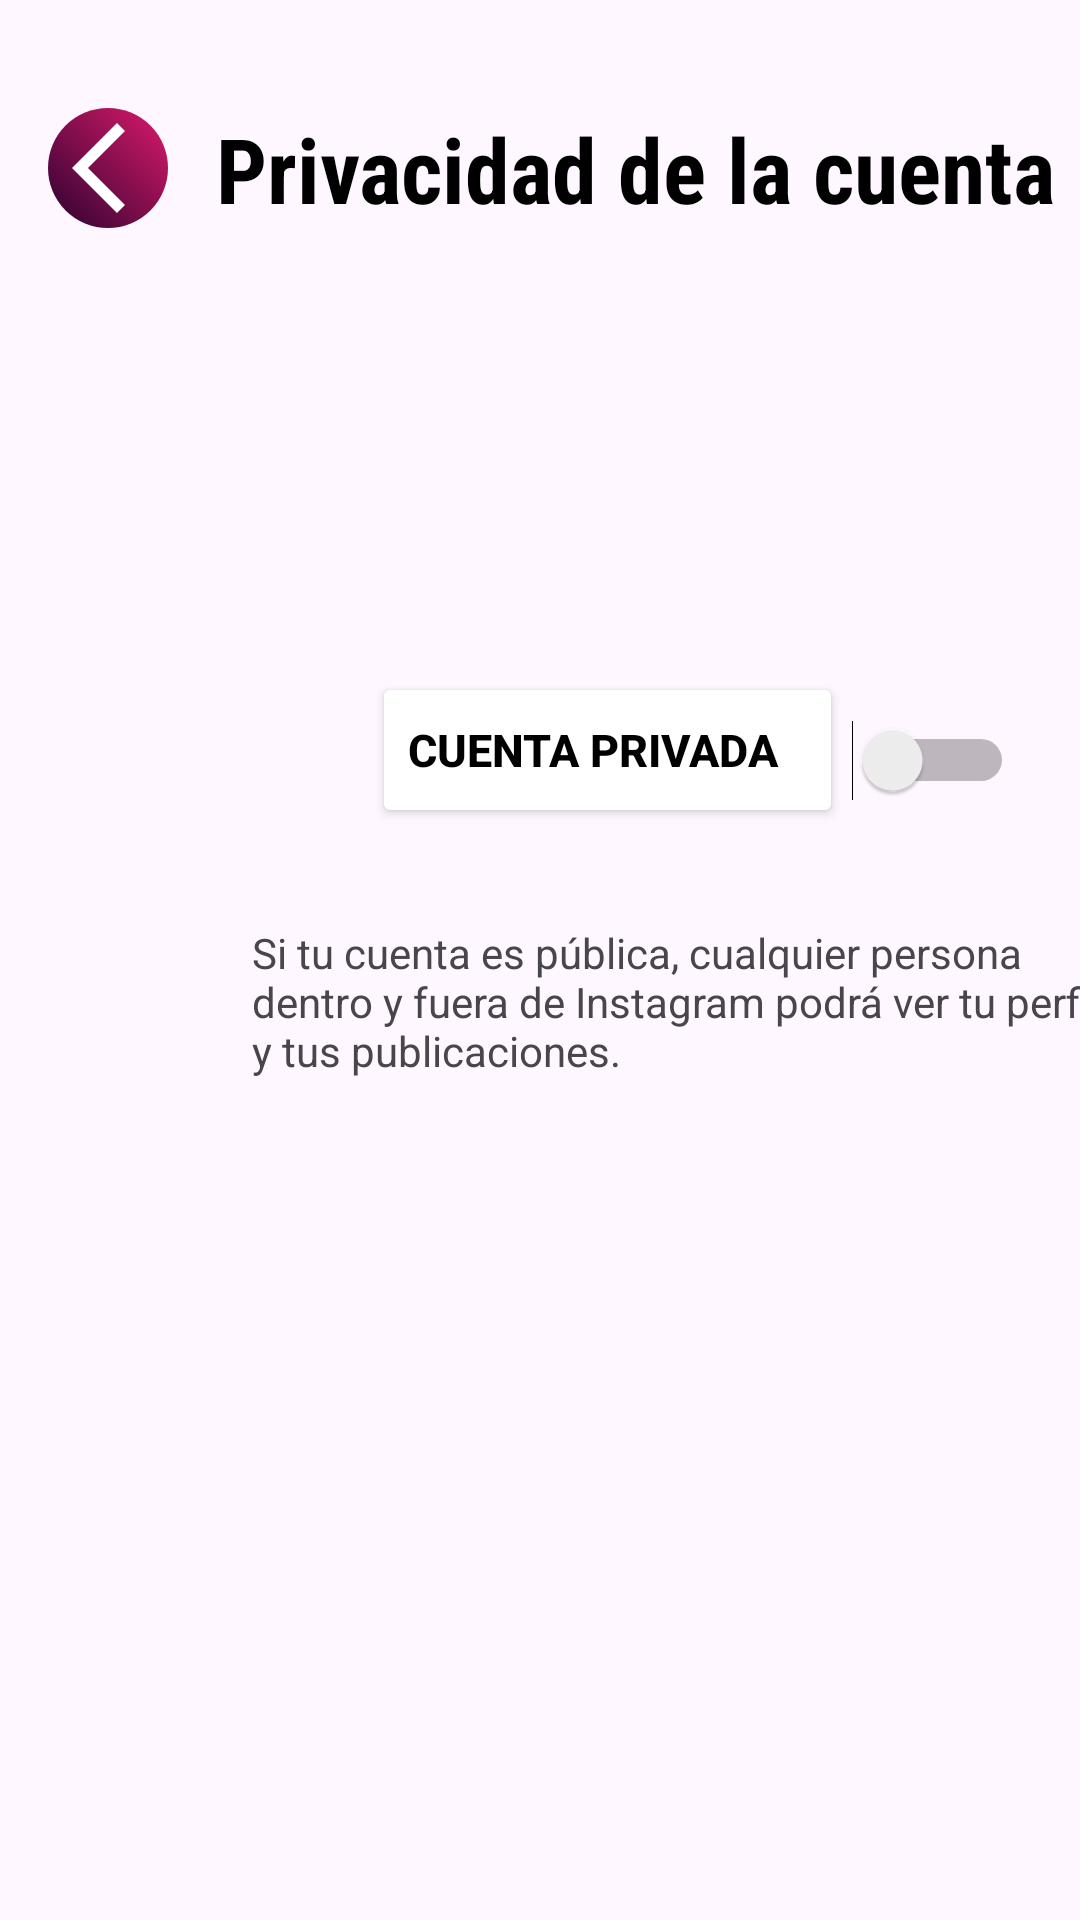

Where icons sit on this 1080 x 1920 app screen, as (left=x1, top=y1, right=x2, bottom=y2):
back: (left=48, top=108, right=168, bottom=228)
